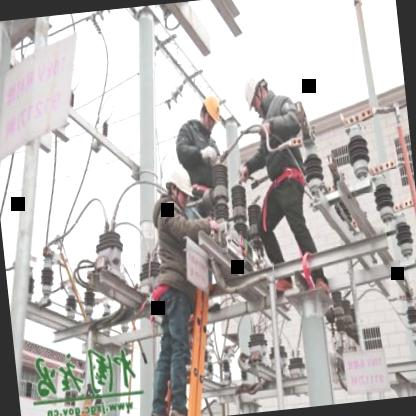helmet: (240, 64, 272, 116), (159, 156, 190, 208), (197, 90, 226, 131)
